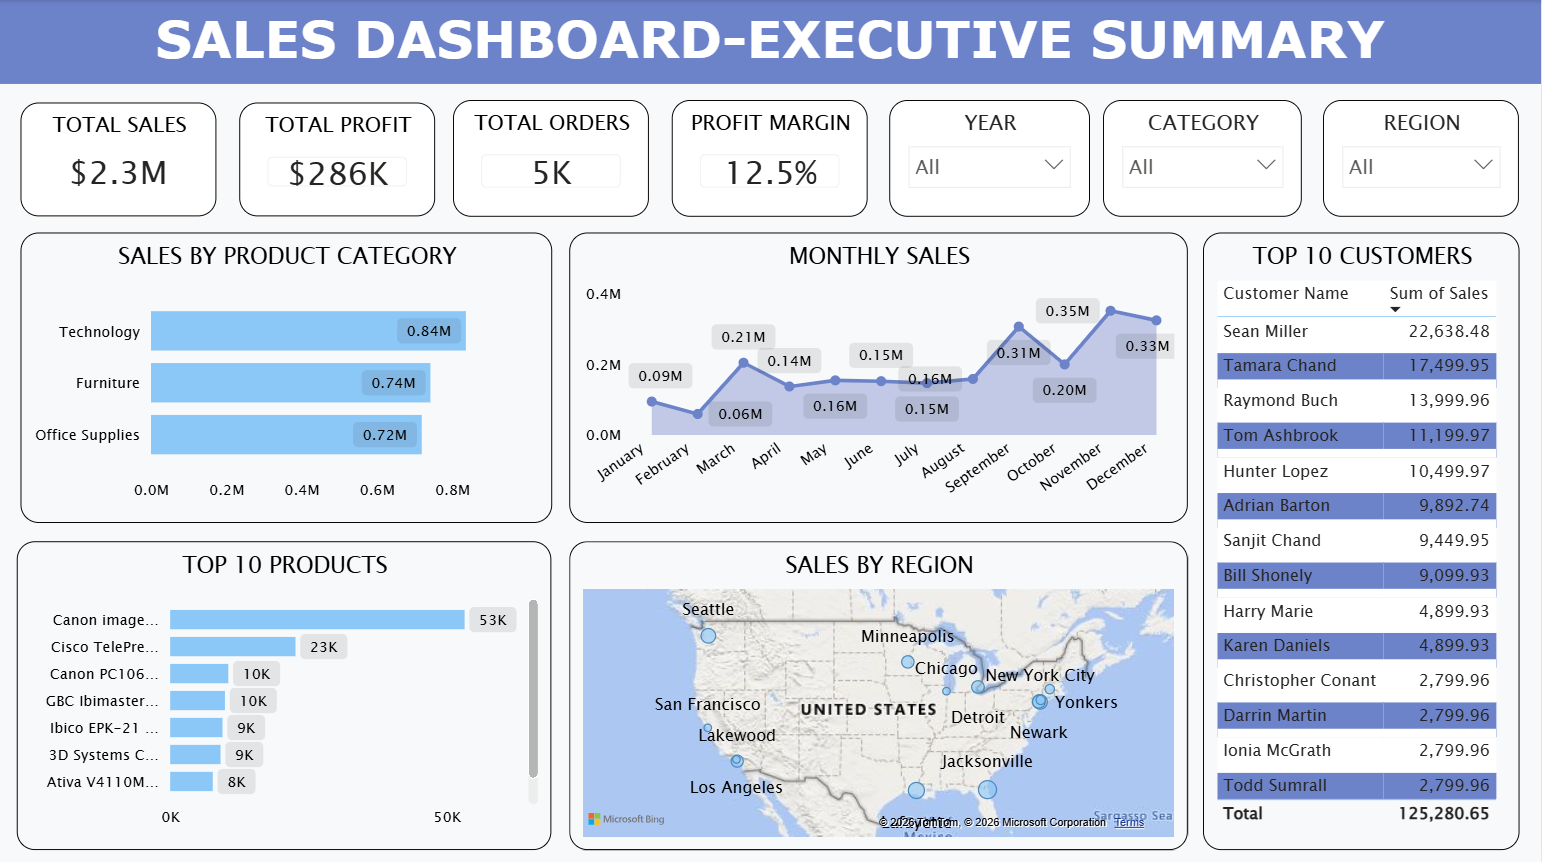

The page's visual inventory and layout, read from the dashboard file:
{"tool":"powerbi","page":{"name":"EXECUTIVE SUMMARY","canvas":[1280,720],"ordinal":0},"visuals":[{"type":"textbox","box":[0,0,1280.2,69.8],"z":0},{"type":"barChart","title":"SALES BY PRODUCT CATEGORY","fields":{"Category":["Cleaned_Superstore.Category"],"Y":["Sum(Cleaned_Superstore.Sales)"]},"box":[18.6,193,440.7,240.7],"z":1000},{"type":"tableEx","title":"TOP 10 CUSTOMERS","fields":{"Values":["Cleaned_Superstore.Customer Name","Sum(Cleaned_Superstore.Sales)"]},"box":[998.8,193,262.8,511.6],"z":2000},{"type":"lineChart","title":"MONTHLY SALES","fields":{"Y":["Sum(Cleaned_Superstore.Sales)"],"Category":["Cleaned_Superstore.Order Date.Variation.Date Hierarchy.Month"]},"box":[473.3,193,512.8,240.7],"z":3000},{"type":"barChart","title":"TOP 10 PRODUCTS","fields":{"Y":["Sum(Cleaned_Superstore.Sales)"],"Category":["Cleaned_Superstore.Product Name"]},"box":[15.1,448.8,443,255.8],"z":4000},{"type":"map","title":"SALES BY REGION","fields":{"Size":["Sum(Cleaned_Superstore.Sales)"],"Category":["Cleaned_Superstore.City"]},"box":[473.3,448.8,512.8,255.8],"z":5000},{"type":"cardVisual","title":"TOTAL SALES","fields":{"Data":["Sum(Cleaned_Superstore.Sales)"]},"box":[18.6,84.9,162.8,94.2],"z":6000},{"type":"cardVisual","title":"TOTAL PROFIT","fields":{"Data":["Sum(Cleaned_Superstore.Profit)"]},"box":[200,84.9,162.8,94.2],"z":7000},{"type":"cardVisual","title":"TOTAL ORDERS","fields":{"Data":["Count(Cleaned_Superstore.Order ID)"]},"box":[376.7,82.6,162.8,96.5],"z":8000},{"type":"slicer","title":"CATEGORY","fields":{"Values":["Cleaned_Superstore.Category"]},"box":[916.3,82.6,165.1,96.5],"z":9000},{"type":"slicer","title":"YEAR","fields":{"Values":["Cleaned_Superstore.Region"]},"box":[738.4,82.6,166.3,96.5],"z":10000},{"type":"slicer","title":"REGION","fields":{"Values":["Cleaned_Superstore.Region"]},"box":[1098.8,82.6,162.8,96.5],"z":11000},{"type":"cardVisual","title":"PROFIT MARGIN","fields":{"Data":["Cleaned_Superstore.PROFIT_MAR"]},"box":[558.1,82.6,162.8,96.5],"z":12000}]}

Visuals, with their boxes in screenshot pixels (x1, y1, x2, y2), scaled from the page's 1280x720 canvas onto the 1542x862 screenshot:
textbox: {"left": 0, "top": 0, "right": 1541, "bottom": 84}
"SALES BY PRODUCT CATEGORY" barChart: {"left": 22, "top": 231, "right": 553, "bottom": 519}
"TOP 10 CUSTOMERS" tableEx: {"left": 1203, "top": 231, "right": 1520, "bottom": 844}
"MONTHLY SALES" lineChart: {"left": 570, "top": 231, "right": 1188, "bottom": 519}
"TOP 10 PRODUCTS" barChart: {"left": 18, "top": 537, "right": 552, "bottom": 844}
"SALES BY REGION" map: {"left": 570, "top": 537, "right": 1188, "bottom": 844}
"TOTAL SALES" cardVisual: {"left": 22, "top": 102, "right": 219, "bottom": 214}
"TOTAL PROFIT" cardVisual: {"left": 241, "top": 102, "right": 437, "bottom": 214}
"TOTAL ORDERS" cardVisual: {"left": 454, "top": 99, "right": 650, "bottom": 214}
"CATEGORY" slicer: {"left": 1104, "top": 99, "right": 1303, "bottom": 214}
"YEAR" slicer: {"left": 890, "top": 99, "right": 1090, "bottom": 214}
"REGION" slicer: {"left": 1324, "top": 99, "right": 1520, "bottom": 214}
"PROFIT MARGIN" cardVisual: {"left": 672, "top": 99, "right": 868, "bottom": 214}
